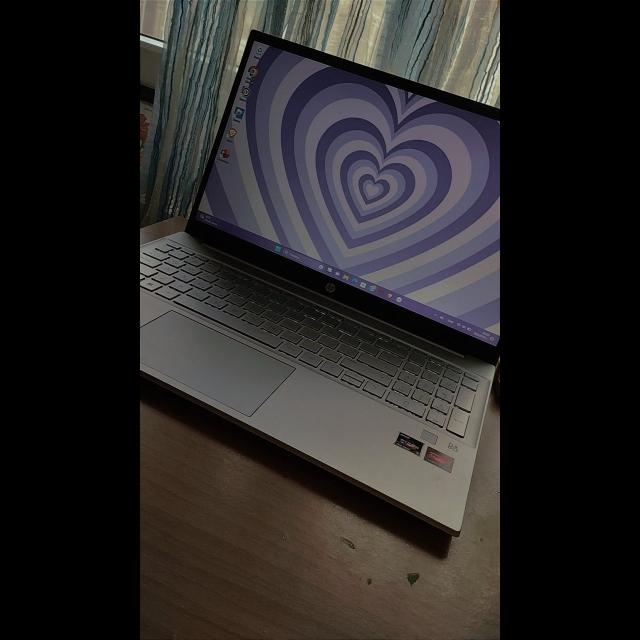laptop: (140, 30, 500, 534)
